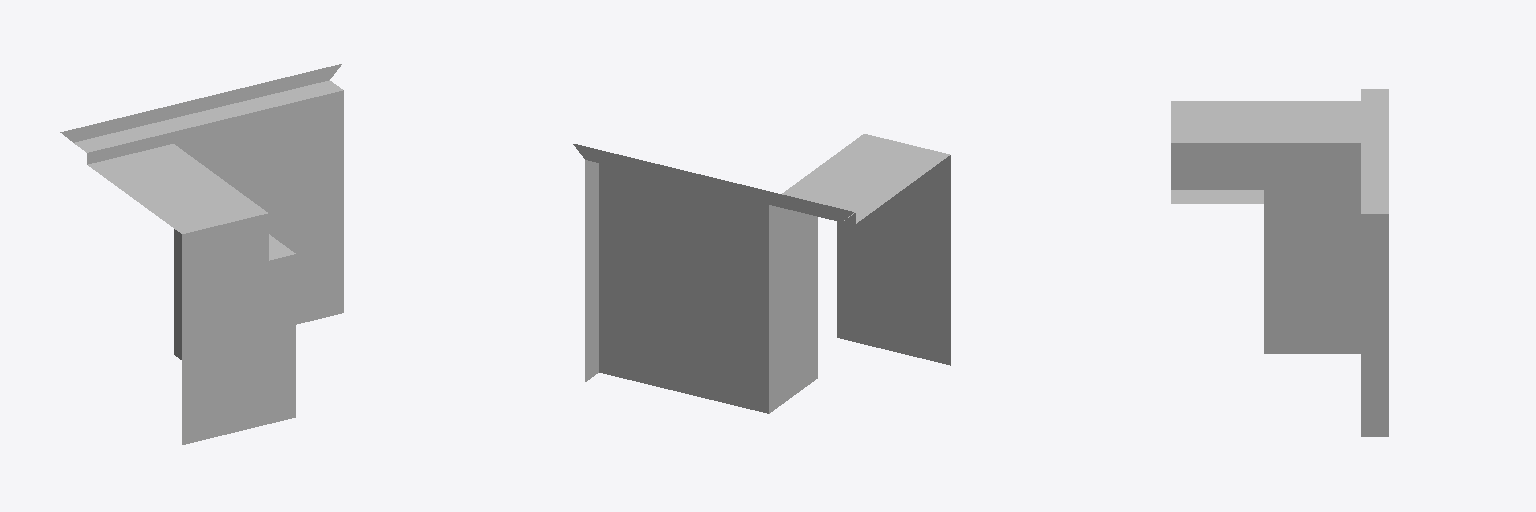
3 views of the same model, side by side, from view 1: azimuth 30°, elevation 25°; view 2: azimuth 150°, elevation 25°; view 3: azimuth 270°, elevation 25° (orthographic).
Parts seen in each view (by area): view 1: MH1_OBJ_10.001_MH1_OBJ_10.002; view 2: MH1_OBJ_10.001_MH1_OBJ_10.002; view 3: MH1_OBJ_10.001_MH1_OBJ_10.002.
Boxes of the visible parts, box(x1,y1,x2,y2) form: MH1_OBJ_10.001_MH1_OBJ_10.002: box(60, 64, 343, 444); MH1_OBJ_10.001_MH1_OBJ_10.002: box(573, 134, 950, 413); MH1_OBJ_10.001_MH1_OBJ_10.002: box(1171, 89, 1388, 436).
Bounding box in the file's own units: 38.85 × 31.05 × 25.93.